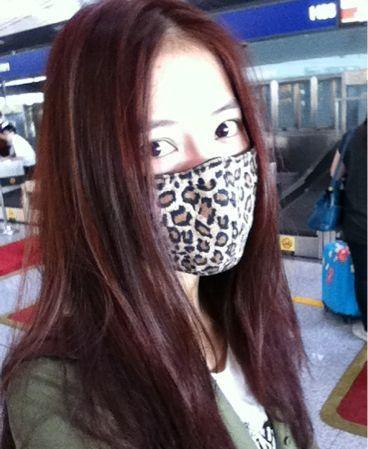OK: (115, 106, 289, 280)
